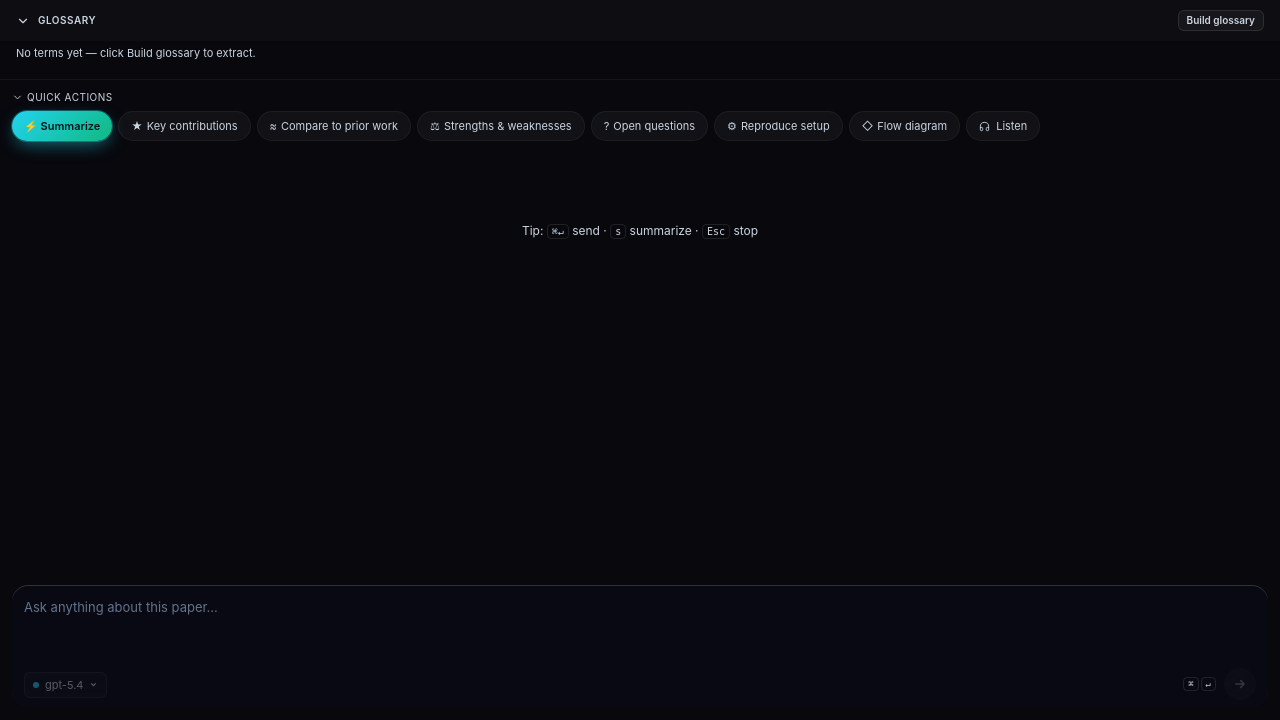
Test: ChatPanel Enter / Shift+Enter › Enter sends the message
In the text box with placeholder "Ask anything about this paper…": point(640, 628) [24,597,1256,660], type "what is this?"
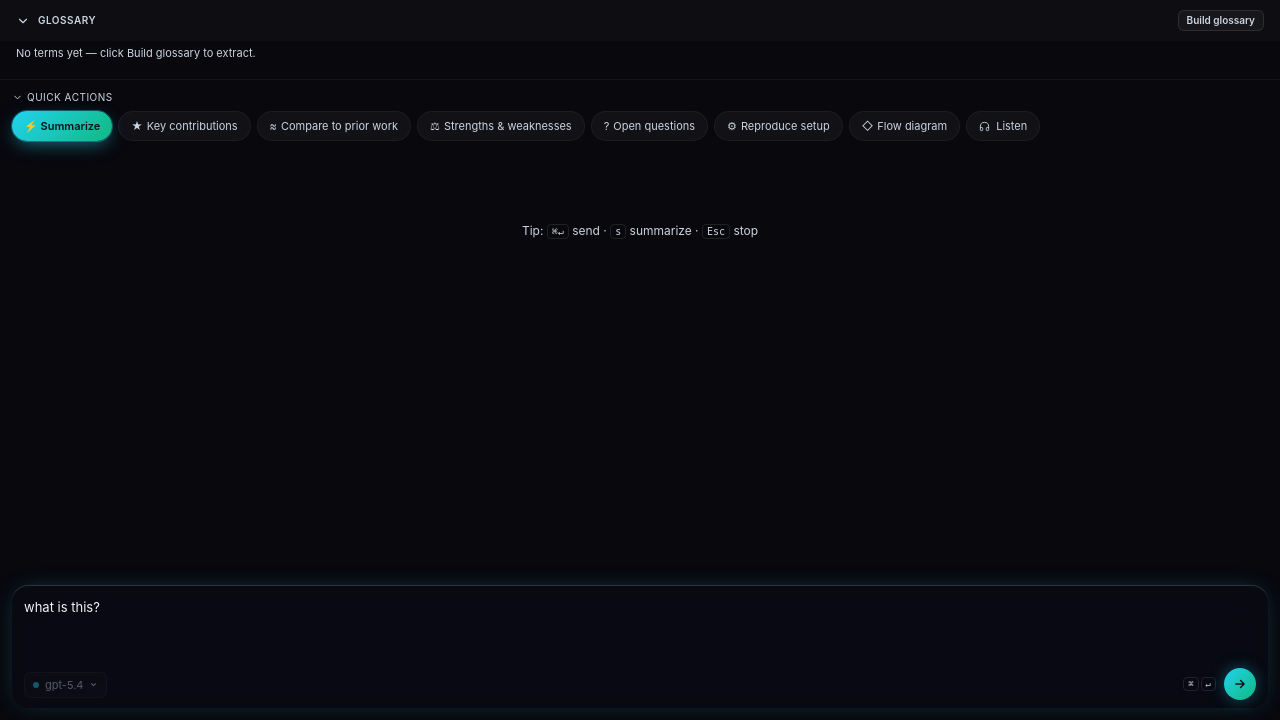
Press Enter
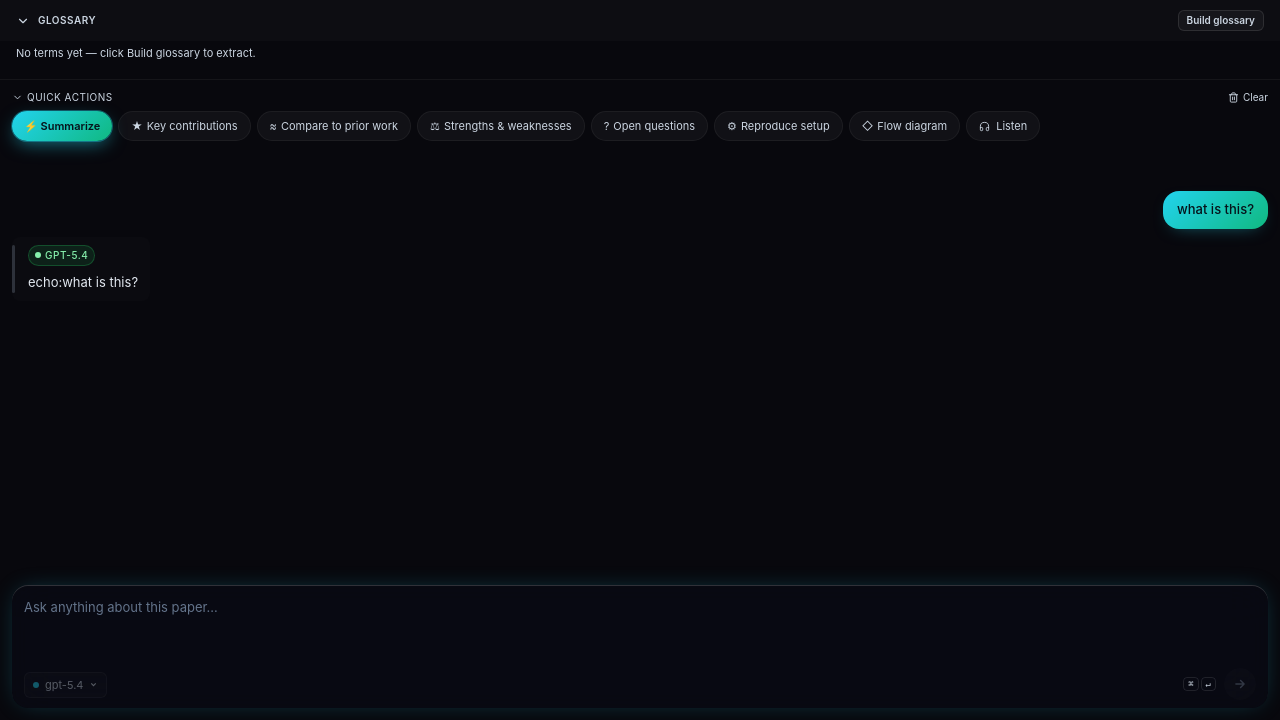
Check: the text "what is this?" is shown, box [1163,191,1268,228]
